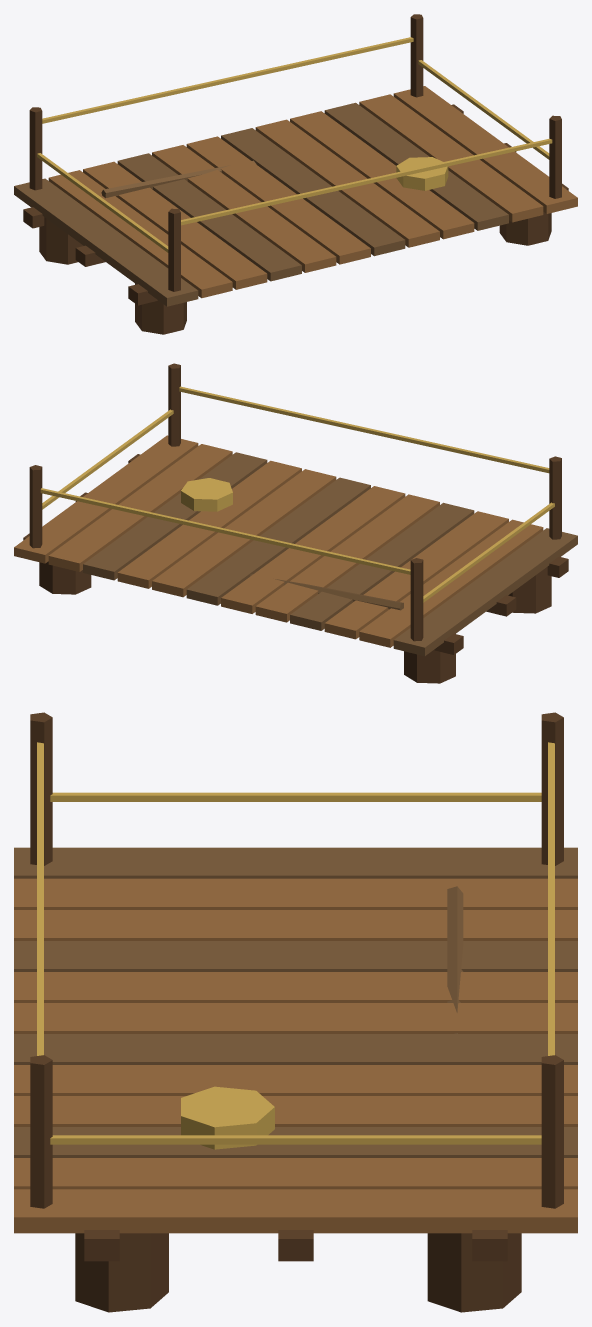
Rendered from ferry_raft.glb.
3 renders of one model, top to bottom at view 1: azimuth 30°, elevation 25°; view 2: azimuth 150°, elevation 25°; view 3: azimuth 270°, elevation 25°, orthographic. The views are drawn at different scales.
Parts seen in each view (by area): view 1: ferry_raft; view 2: ferry_raft; view 3: ferry_raft.
Part boxes in pixels (x1,y1,x2,y2): ferry_raft: (14,14,577,334); ferry_raft: (14,363,577,683); ferry_raft: (14,712,577,1312).
Size of what is drawn, in the model's own units: 5.2 by 1.5 by 3.2.
